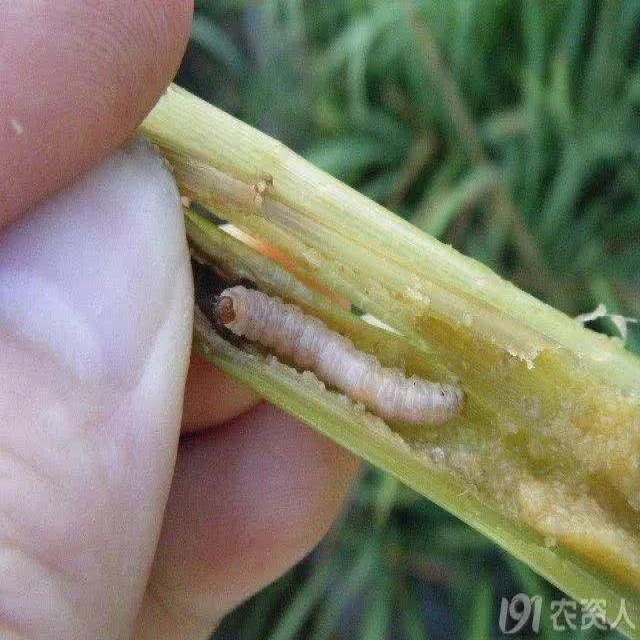yellow-stem-borer-larva: (199, 268, 506, 470)
